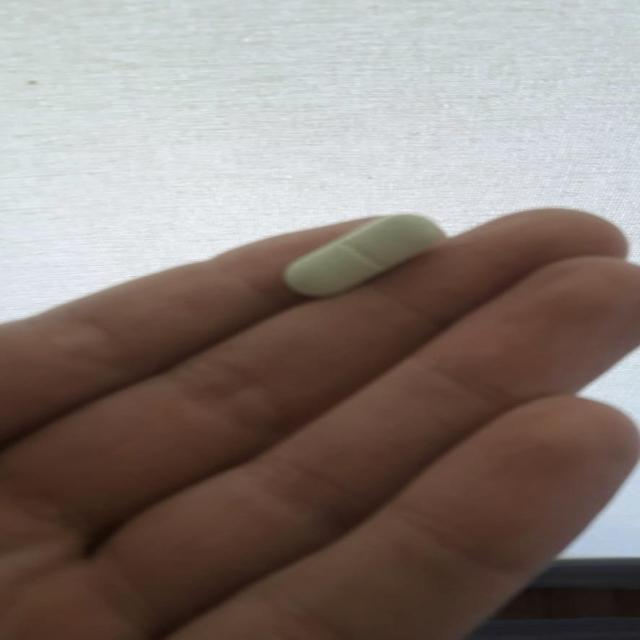pill: (280, 212, 452, 299)
